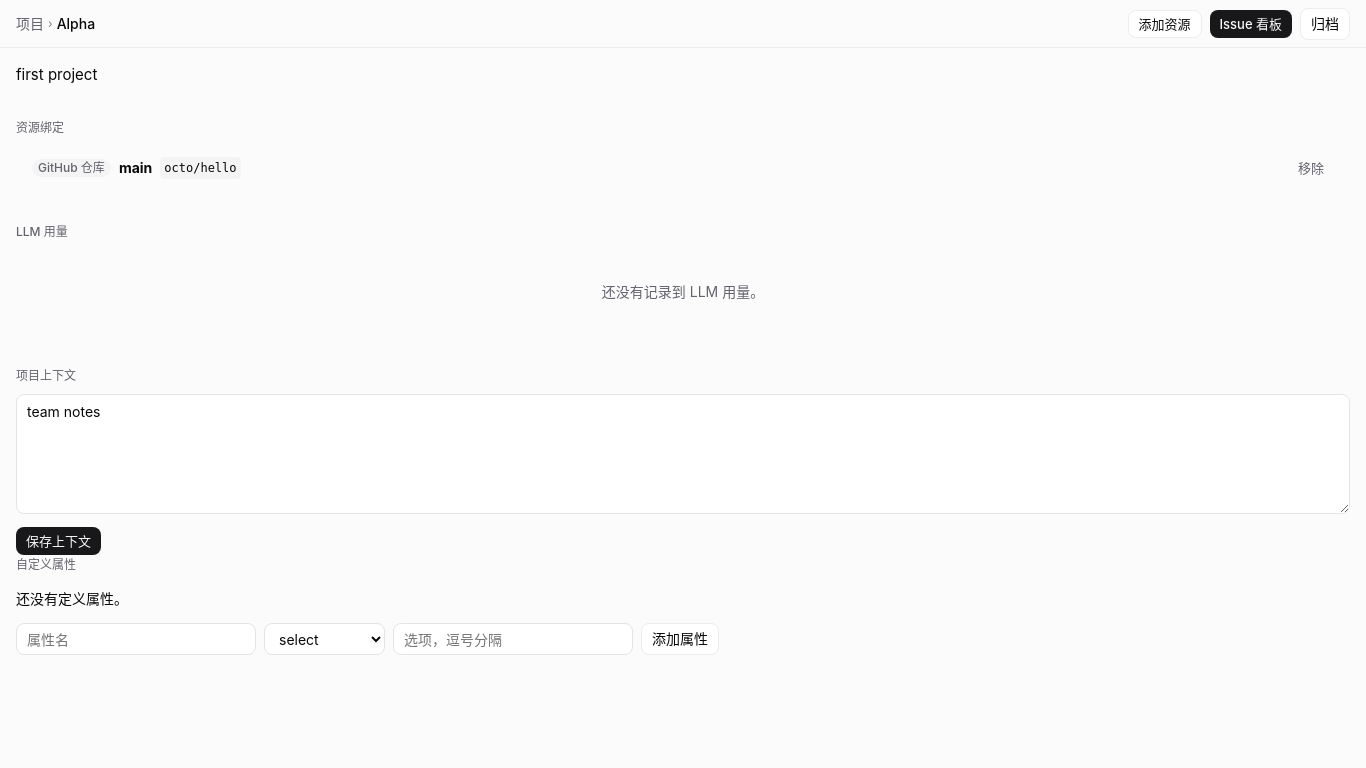
ProjectDetailPage › shows the api error when adding an invalid resource
Click the button with test id "add-resource": coordinates (1164, 24) left=1128, top=10, right=1202, bottom=38
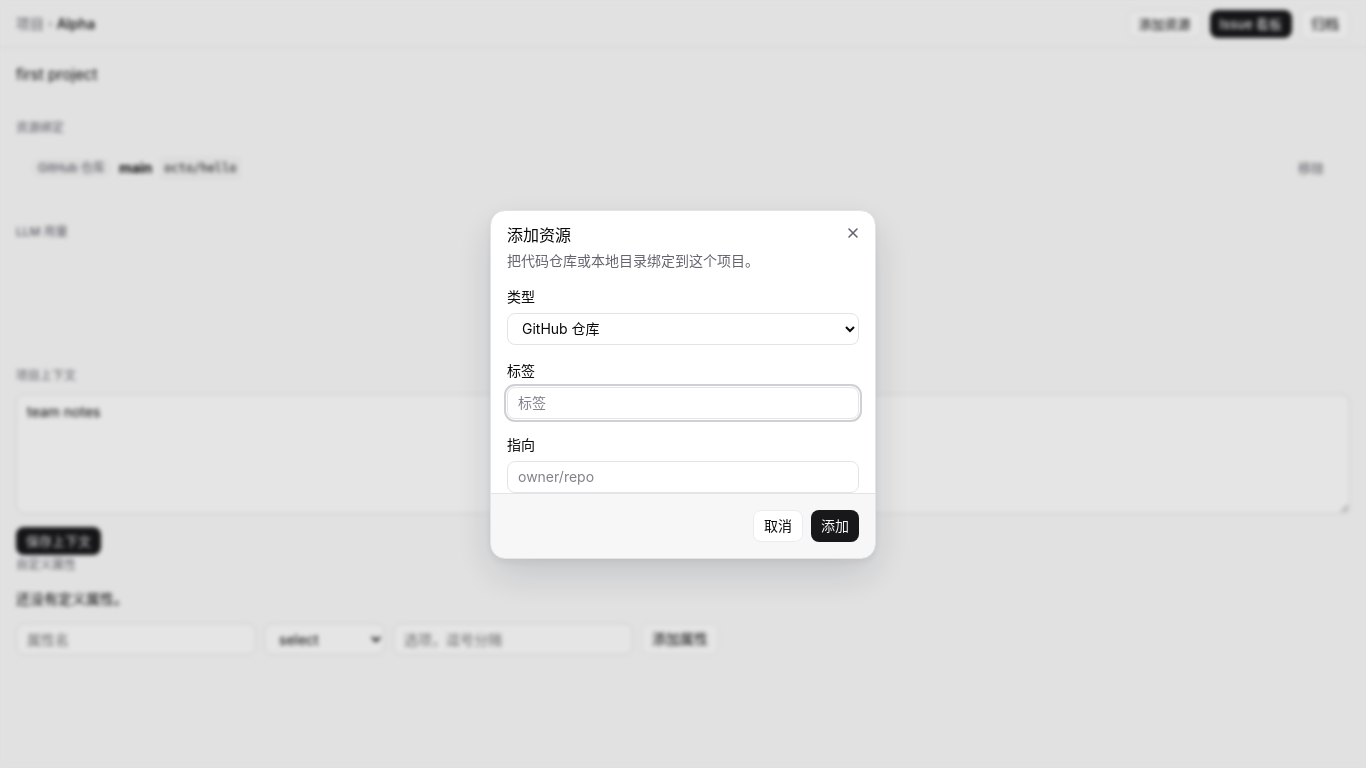
In the field with test id "resource-label": coordinates (683, 402) left=507, top=386, right=859, bottom=418, type "bad"
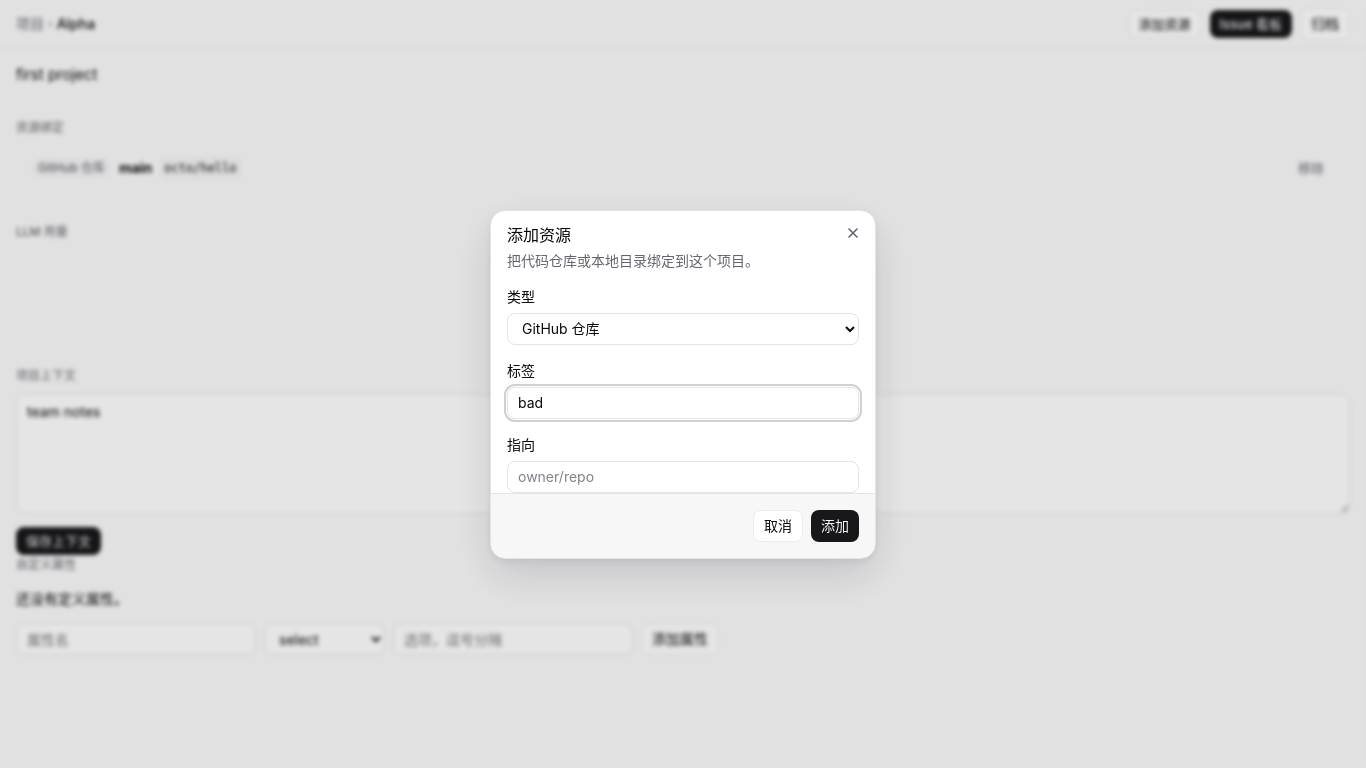
In the field with test id "resource-pointer": coordinates (683, 476) left=507, top=460, right=859, bottom=492, type "nope"
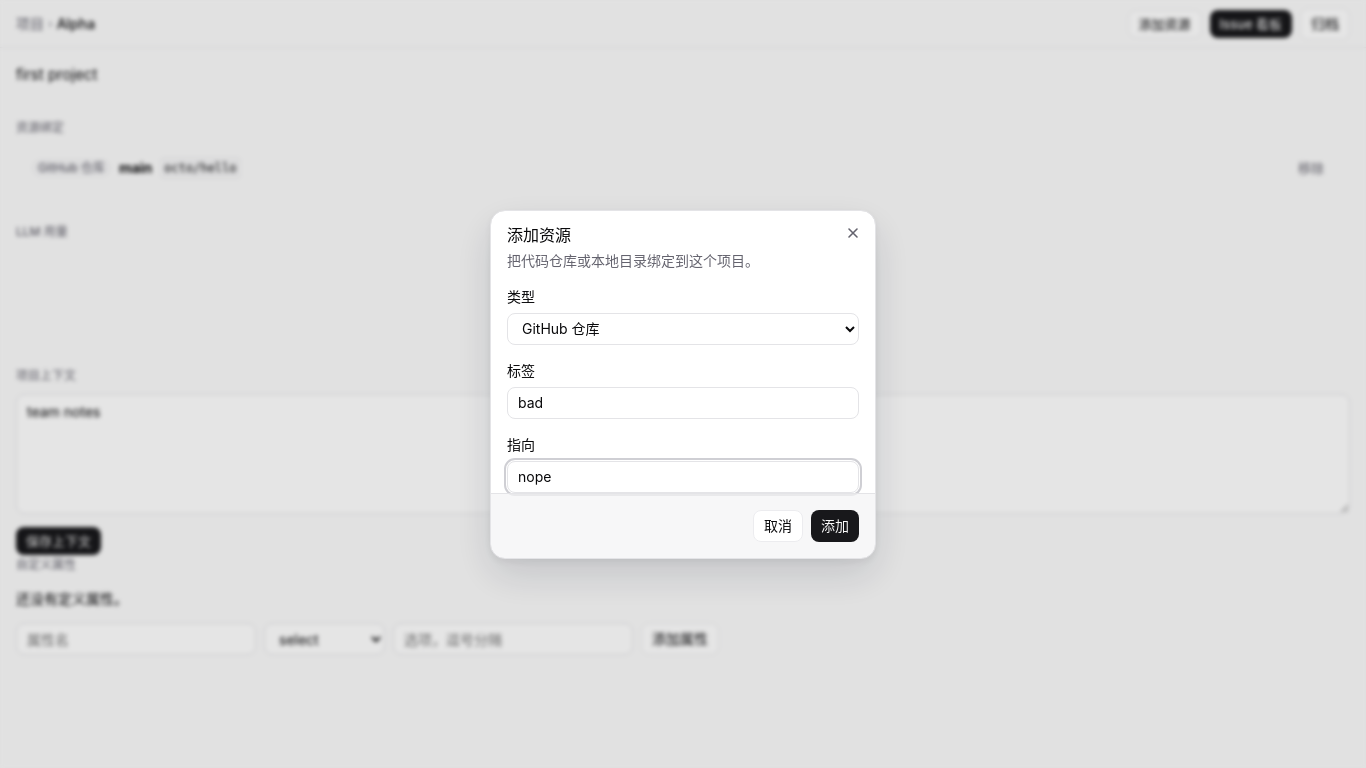
Click the button with test id "confirm-add-resource": coordinates (835, 526) left=811, top=510, right=859, bottom=542
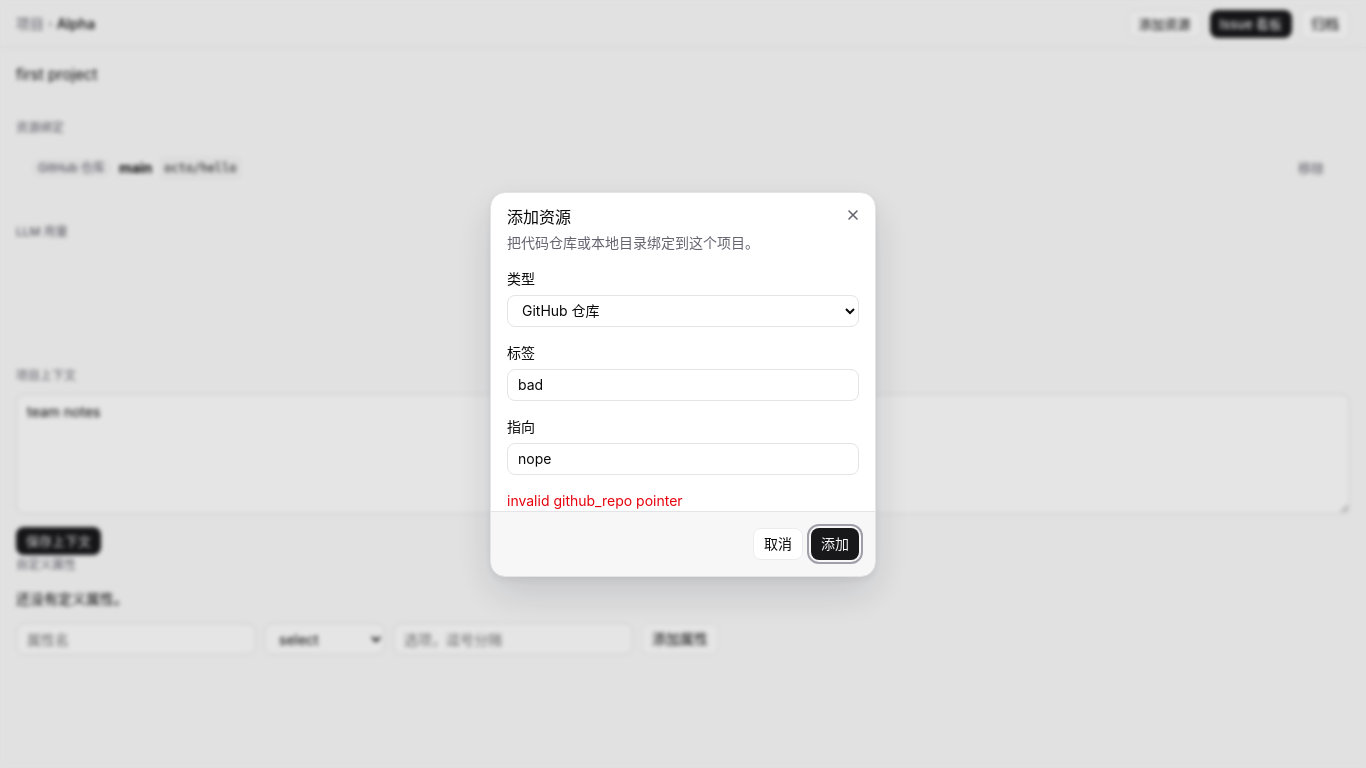
Result: the message reads "invalid github_repo pointer" at left=507, top=492, right=683, bottom=508
